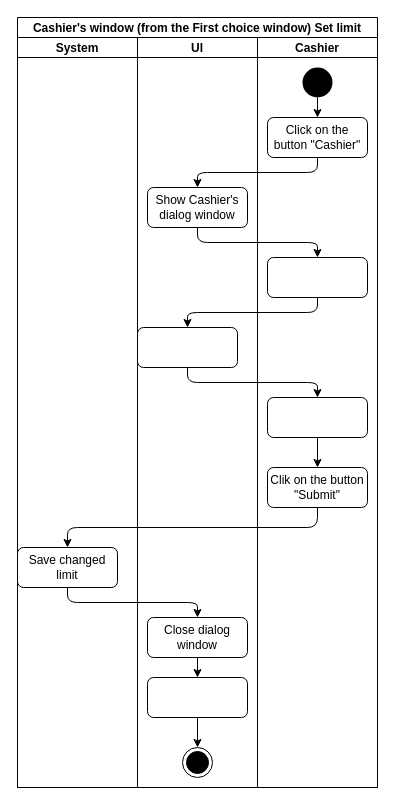
The diagram is 395 pixels wide and 805 high, and some of its shapes have lost their labels. Each missing label, with the centre of its shape:
Click on the button "Set limit": (x=317, y=277)
Input new limit: (x=317, y=417)
Show changed limit in Client's window: (x=197, y=697)
Show dialog window "New limit": (x=187, y=347)
